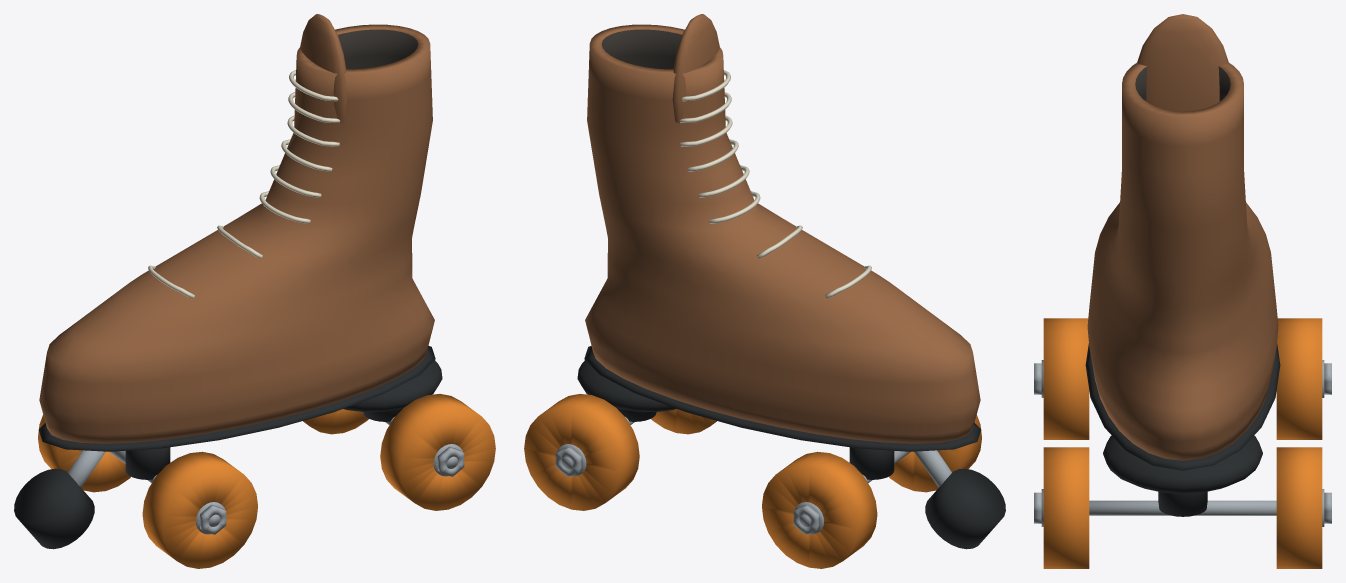
3 renders of one model, left to right at view 1: azimuth 30°, elevation 25°; view 2: azimuth 150°, elevation 25°; view 3: azimuth 270°, elevation 25°, orthographic. The views are drawn at different scales.
Parts seen in each view (by area): view 1: Hollow lace-up skate boot, Rotating quad wheel 0 -1, Rotating quad wheel 1 -1, Front toe brake, Rubber outsole, Raised boot tongue, Rotating quad wheel 0 1, Rear heel block, Kingpin cushion 0, Rotating quad wheel 1 1, Toe stop threaded support; view 2: Hollow lace-up skate boot, Rotating quad wheel 0 1, Rotating quad wheel 1 1, Front toe brake, Rubber outsole, Raised boot tongue, Rotating quad wheel 0 -1, Rear heel block, Kingpin cushion 0, Rotating quad wheel 1 -1, Toe stop threaded support; view 3: Hollow lace-up skate boot, Raised boot tongue, Rotating quad wheel 1 -1, Rotating quad wheel 1 1, Rotating quad wheel 0 -1, Rotating quad wheel 0 1, Rear heel block, Rubber outsole, Transverse axle 1, Kingpin cushion 1.
Boxes of the visible parts, bbox=[...] form: Hollow lace-up skate boot: bbox=[39, 24, 434, 443]; Rotating quad wheel 0 -1: bbox=[142, 451, 257, 568]; Rotating quad wheel 1 -1: bbox=[380, 394, 495, 510]; Front toe brake: bbox=[14, 468, 94, 549]; Rubber outsole: bbox=[38, 346, 435, 451]; Raised boot tongue: bbox=[300, 14, 347, 123]; Rotating quad wheel 0 1: bbox=[38, 414, 130, 492]; Rear heel block: bbox=[343, 360, 442, 411]; Kingpin cushion 0: bbox=[125, 447, 170, 479]; Rotating quad wheel 1 1: bbox=[303, 409, 368, 434]; Toe stop threaded support: bbox=[68, 450, 105, 487]; Hollow lace-up skate boot: bbox=[585, 24, 980, 443]; Rotating quad wheel 0 1: bbox=[762, 451, 877, 568]; Rotating quad wheel 1 1: bbox=[524, 394, 639, 510]; Front toe brake: bbox=[925, 468, 1005, 549]; Rubber outsole: bbox=[584, 346, 981, 451]; Raised boot tongue: bbox=[672, 14, 719, 123]; Rotating quad wheel 0 -1: bbox=[889, 414, 981, 492]; Rear heel block: bbox=[577, 360, 676, 411]; Kingpin cushion 0: bbox=[849, 447, 894, 479]; Rotating quad wheel 1 -1: bbox=[651, 409, 716, 434]; Toe stop threaded support: bbox=[914, 450, 951, 487]; Hollow lace-up skate boot: bbox=[1087, 62, 1278, 460]; Raised boot tongue: bbox=[1137, 14, 1228, 111]; Rotating quad wheel 1 -1: bbox=[1043, 447, 1089, 568]; Rotating quad wheel 1 1: bbox=[1276, 447, 1322, 568]; Rotating quad wheel 0 -1: bbox=[1043, 318, 1089, 439]; Rotating quad wheel 0 1: bbox=[1276, 318, 1322, 439]; Rear heel block: bbox=[1103, 435, 1262, 493]; Rubber outsole: bbox=[1085, 343, 1280, 470]; Transverse axle 1: bbox=[1089, 500, 1276, 515]; Kingpin cushion 1: bbox=[1158, 491, 1207, 516].
Size of the model in its own units: 0.2785 by 0.298 by 0.156.
